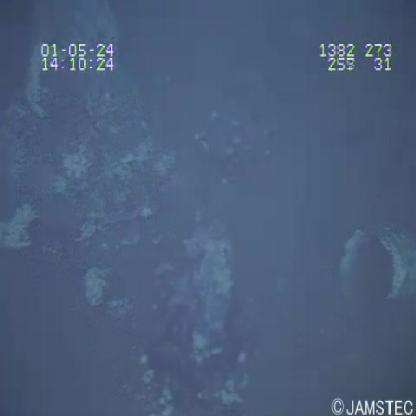Rác: (338, 216, 416, 313)
